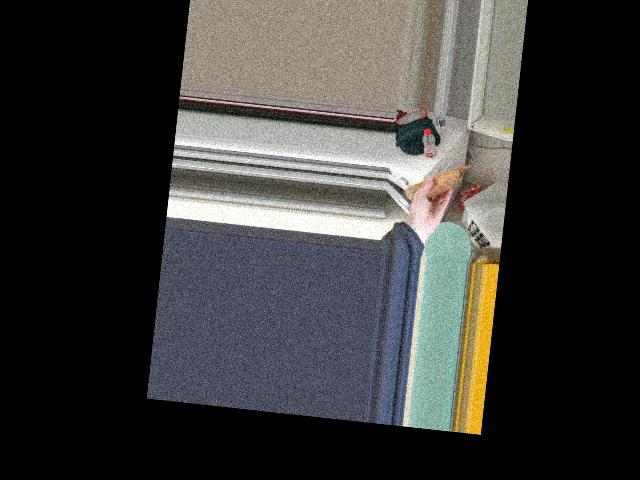sweet_potato: (418, 164, 455, 200)
